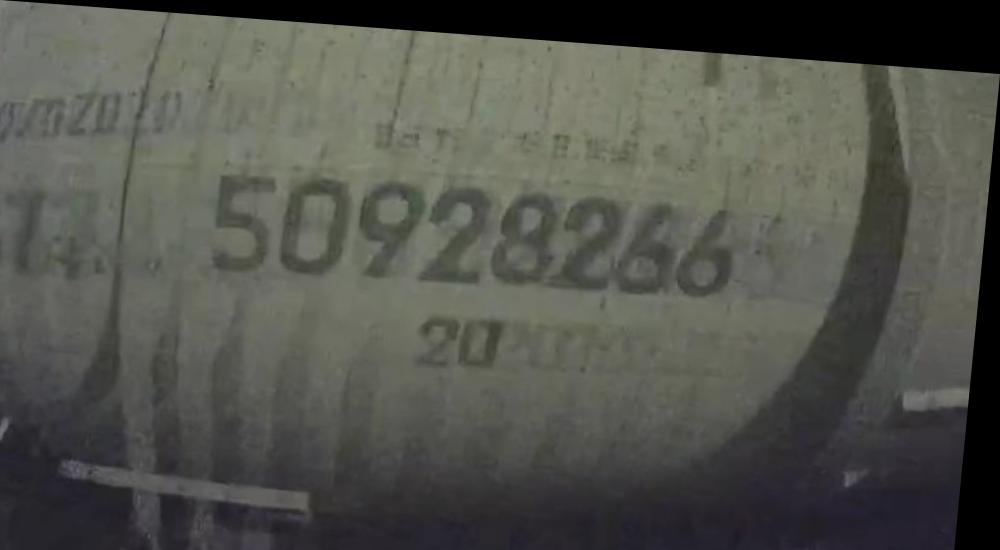Wagon-number: (207, 156, 750, 299)
